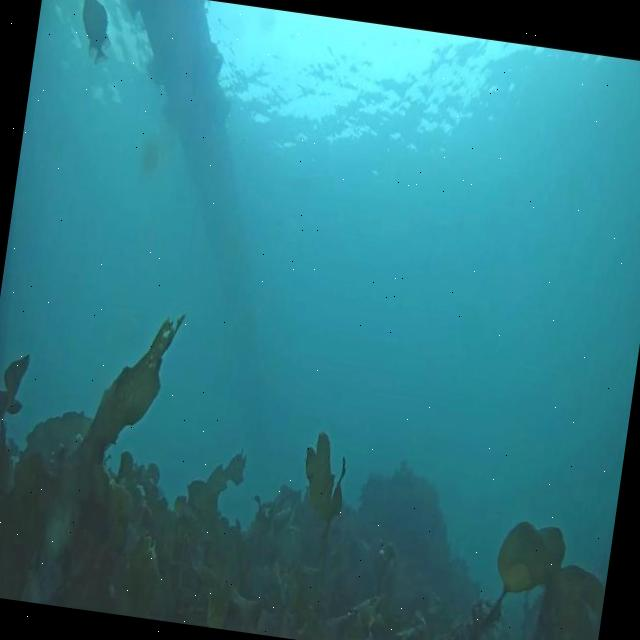fish: (74, 0, 120, 66)
